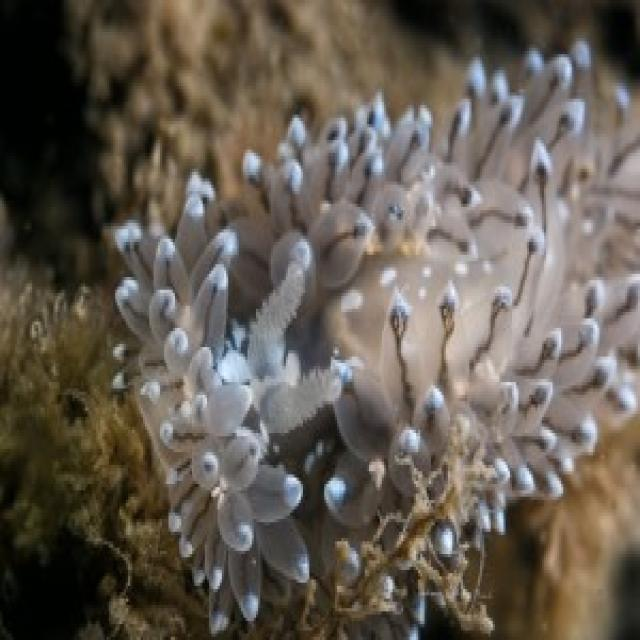Bleached: (114, 55, 639, 638)
